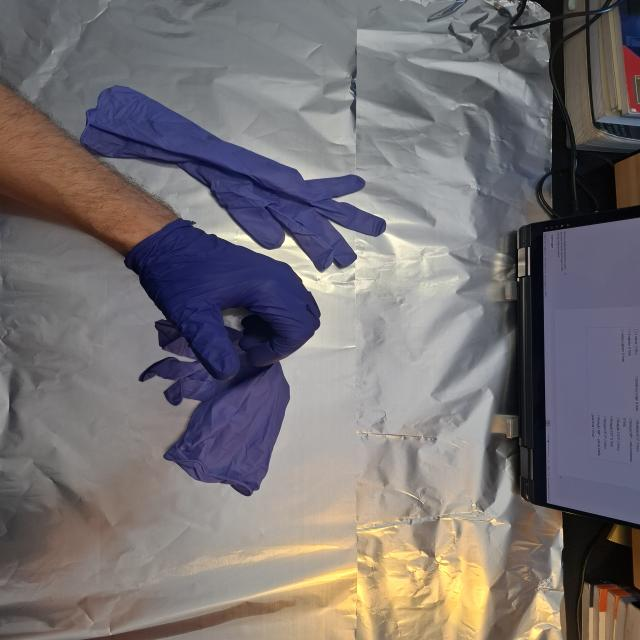glove_on: (128, 222, 324, 382)
